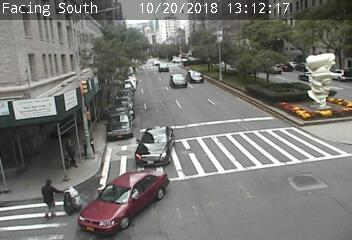car: (85, 183, 158, 228), (140, 131, 171, 159), (187, 70, 204, 83), (169, 76, 188, 87), (157, 64, 170, 71)
